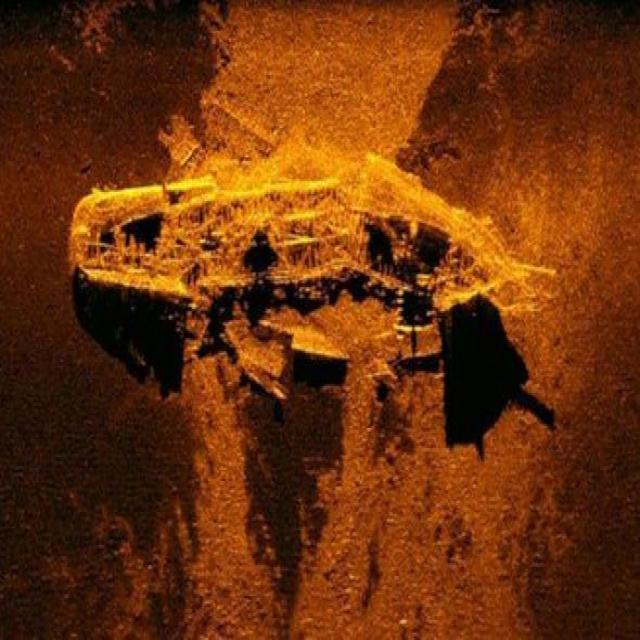shipwreck: (66, 156, 537, 436)
